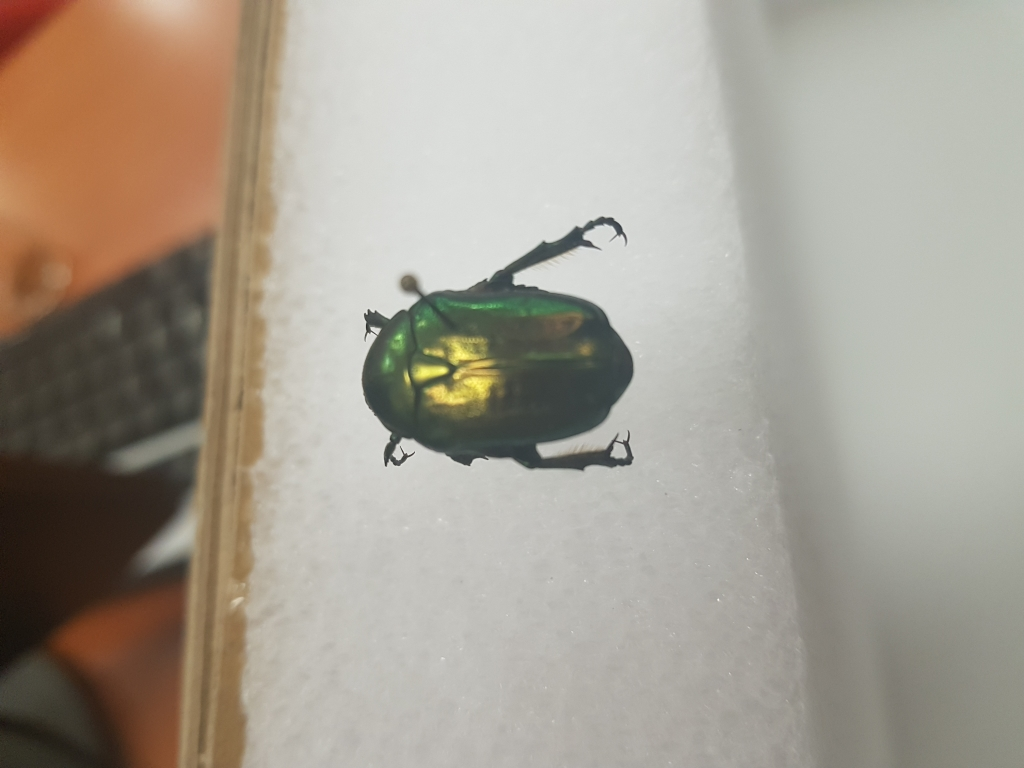Cetonia_aurata: (336, 213, 653, 484)
